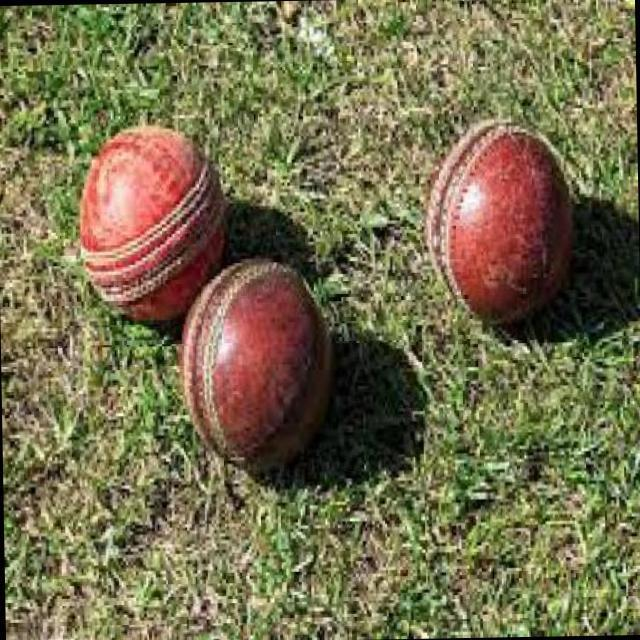Red_Ball: (178, 258, 342, 485), (70, 128, 238, 325), (424, 120, 582, 326), (583, 99, 586, 105)
